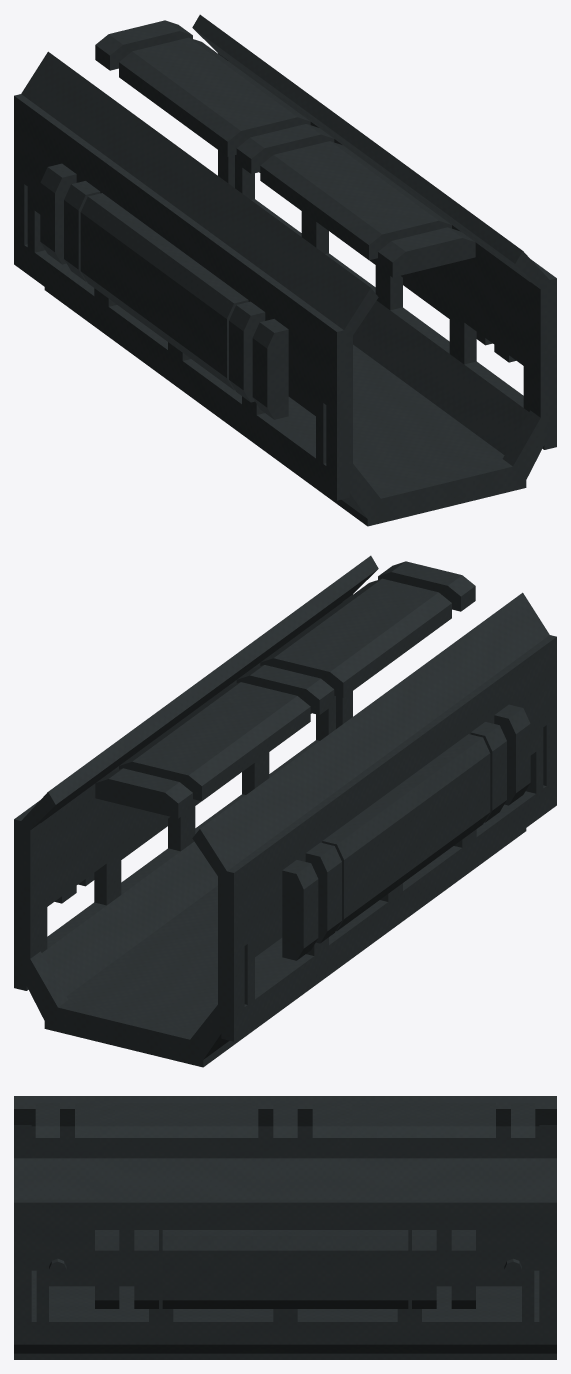
The model's file is saiga_rail.glb.
3 views of the same model, one above another, from view 1: azimuth 30°, elevation 25°; view 2: azimuth 150°, elevation 25°; view 3: azimuth 270°, elevation 25° (orthographic). The views are drawn at different scales.
Visible parts, largest first — view 1: handguard__saiga_rail_LOD0_RAID_Secondary_Original_steel, handguard__saiga_rail_LOD1_RAID_Secondary_Original_steel; view 2: handguard__saiga_rail_LOD0_RAID_Secondary_Original_steel, handguard__saiga_rail_LOD1_RAID_Secondary_Original_steel; view 3: handguard__saiga_rail_LOD0_RAID_Secondary_Original_steel, handguard__saiga_rail_LOD1_RAID_Secondary_Original_steel.
Boxes of the visible parts, left/top/right/bottom form: handguard__saiga_rail_LOD0_RAID_Secondary_Original_steel: left=14, top=14, right=556, bottom=526; handguard__saiga_rail_LOD1_RAID_Secondary_Original_steel: left=28, top=39, right=529, bottom=488; handguard__saiga_rail_LOD0_RAID_Secondary_Original_steel: left=14, top=555, right=556, bottom=1067; handguard__saiga_rail_LOD1_RAID_Secondary_Original_steel: left=41, top=583, right=542, bottom=1027; handguard__saiga_rail_LOD0_RAID_Secondary_Original_steel: left=14, top=1096, right=556, bottom=1359; handguard__saiga_rail_LOD1_RAID_Secondary_Original_steel: left=38, top=1103, right=533, bottom=1344.
Bounding box in the file's own units: 0.146 × 0.143 × 0.31.
Materials: 1 (1 with a texture image).
